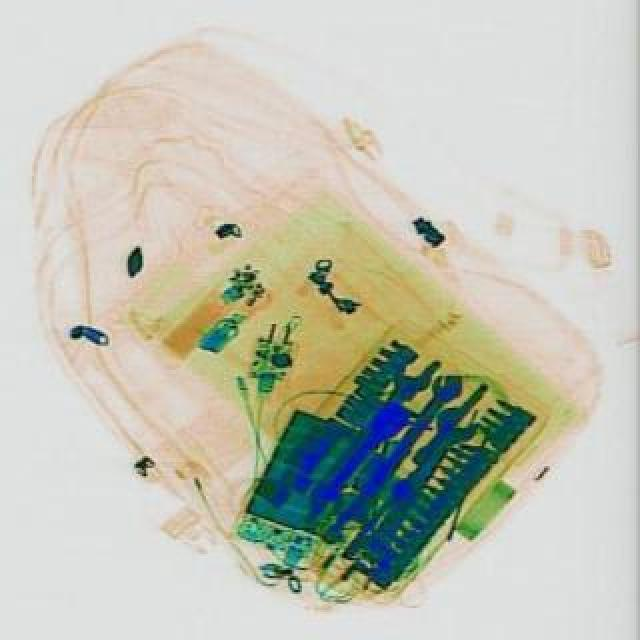scissors: (316, 364, 474, 548), (346, 396, 490, 576)
